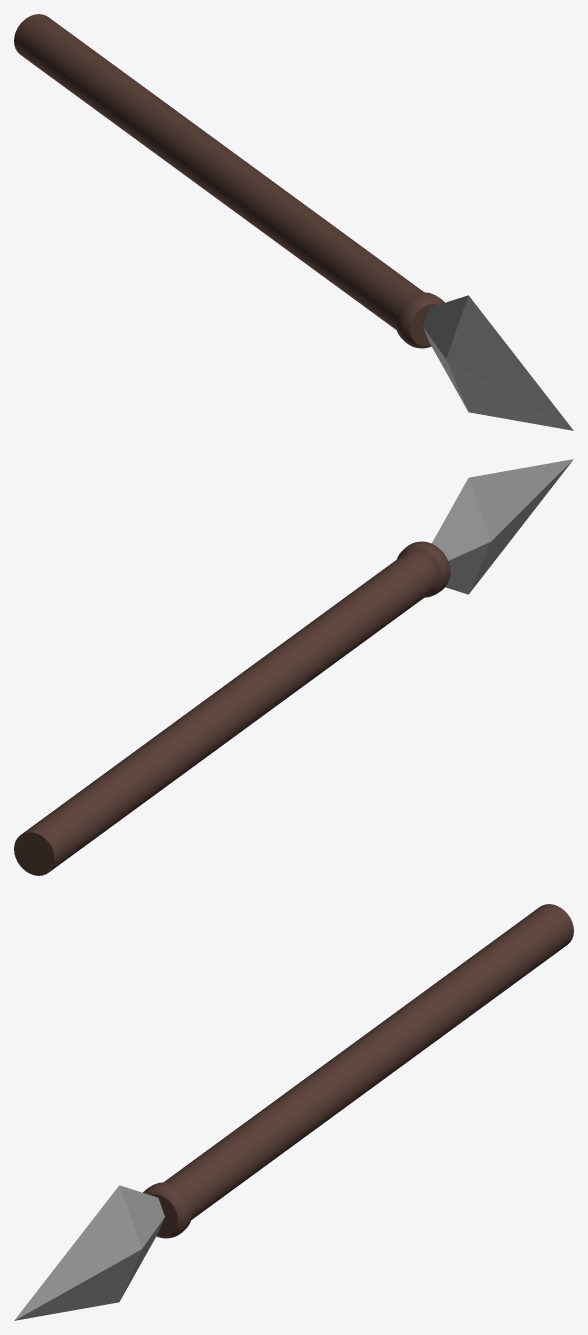
Rendered from Spear.fbx.
3 views of the same model, one above another, from view 1: azimuth 30°, elevation 25°; view 2: azimuth 150°, elevation 25°; view 3: azimuth 330°, elevation 25° (orthographic).
Parts seen in each view (by area): view 1: Cylinder; view 2: Cylinder; view 3: Cylinder.
Part boxes in pixels (x1,y1,x2,y2): Cylinder: (14, 14, 573, 430); Cylinder: (14, 459, 573, 875); Cylinder: (14, 904, 573, 1320).
Size of the model in its own units: 52.26 by 120 by 1006.
